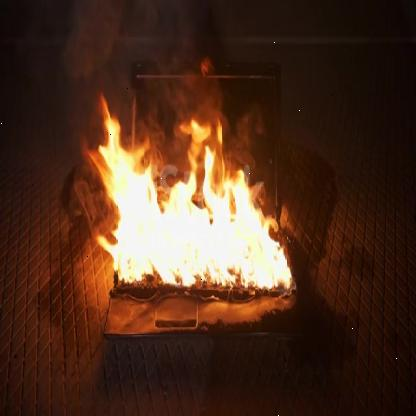fire: (86, 88, 297, 298)
smoke: (44, 0, 348, 248)
